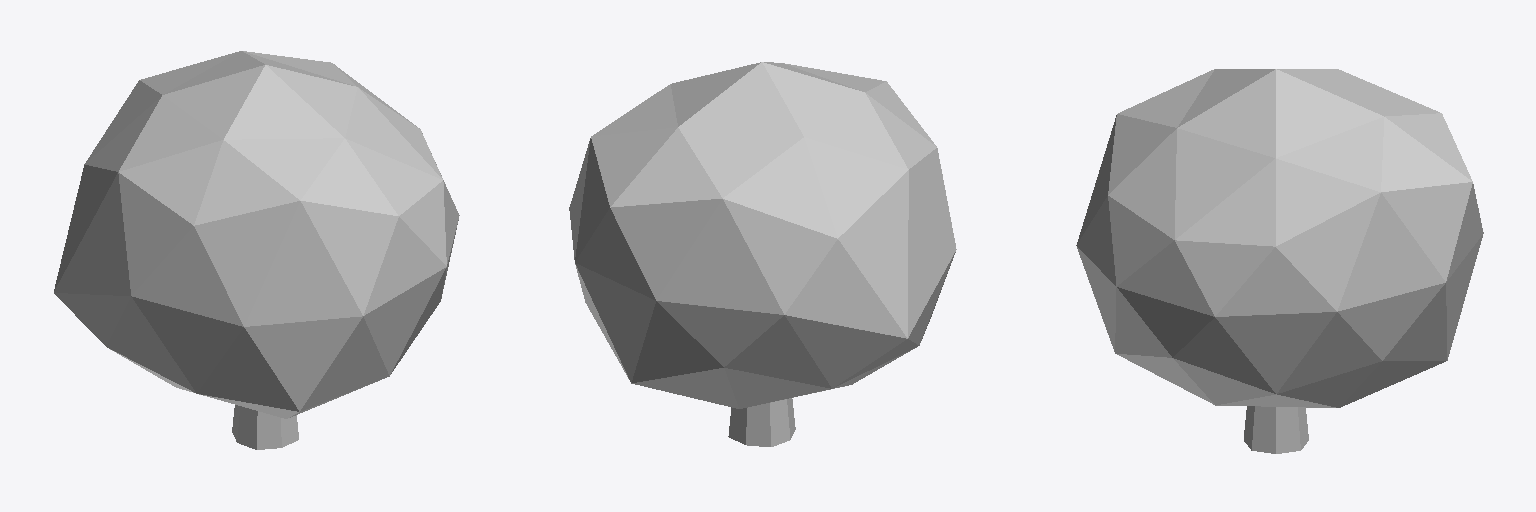
Rendered from bush1.obj.
The picture shows the model from 3 angles: view 1: azimuth 30°, elevation 25°; view 2: azimuth 150°, elevation 25°; view 3: azimuth 270°, elevation 25°; orthographic projection.
Parts seen in each view (by area): view 1: stalk_Cube.001; view 2: stalk_Cube.001; view 3: stalk_Cube.001.
Boxes of the visible parts, box(x1,y1,x2,y2) form: stalk_Cube.001: box(54, 51, 459, 449); stalk_Cube.001: box(569, 62, 956, 446); stalk_Cube.001: box(1076, 69, 1483, 453).
Bounding box in the file's own units: 0.6017 × 0.6409 × 0.6202.